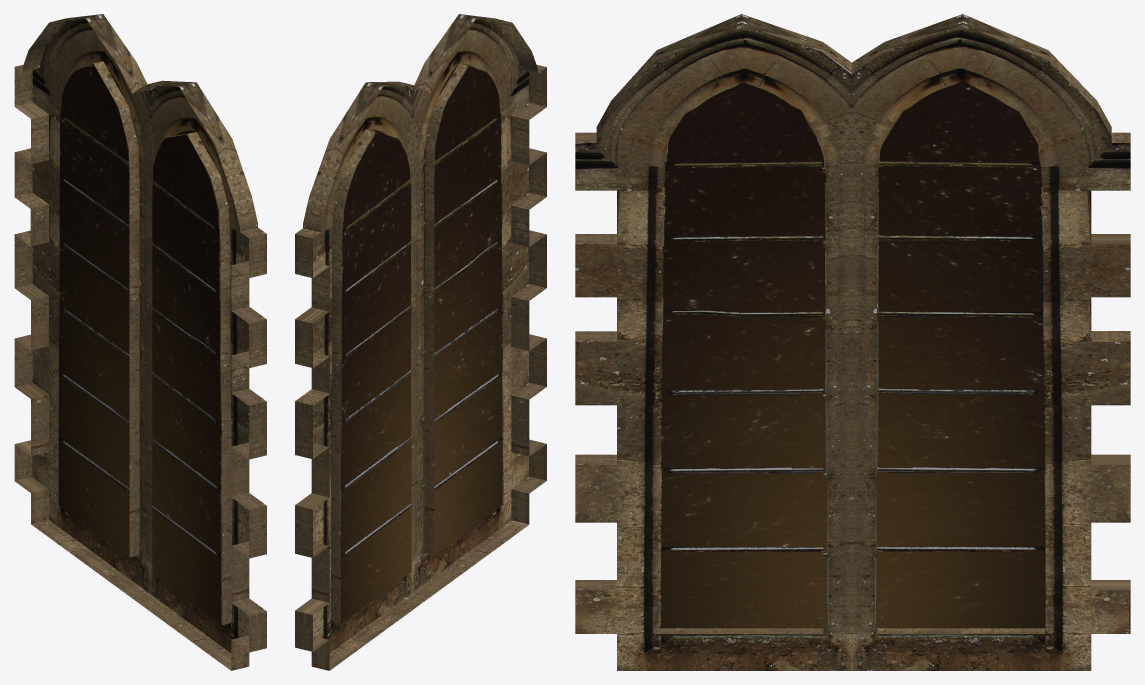
File: window.obj
The picture shows the model from 3 angles, left to right: view 1: azimuth 30°, elevation 25°; view 2: azimuth 150°, elevation 25°; view 3: azimuth 270°, elevation 25°; orthographic projection. The views are drawn at different scales.
Parts seen in each view (by area): view 1: Victorian_Window_01:Victorian_Window_01:Window06:pPlane2; view 2: Victorian_Window_01:Victorian_Window_01:Window06:pPlane2; view 3: Victorian_Window_01:Victorian_Window_01:Window06:pPlane2.
Part boxes in pixels (x1=…): Victorian_Window_01:Victorian_Window_01:Window06:pPlane2: x1=14, y1=14, x2=266, y2=670; Victorian_Window_01:Victorian_Window_01:Window06:pPlane2: x1=295, y1=14, x2=546, y2=670; Victorian_Window_01:Victorian_Window_01:Window06:pPlane2: x1=575, y1=14, x2=1130, y2=670.
Bounding box in the file's own units: 0.4558 × 12.91 × 10.05.
1 material, 1 textured.
